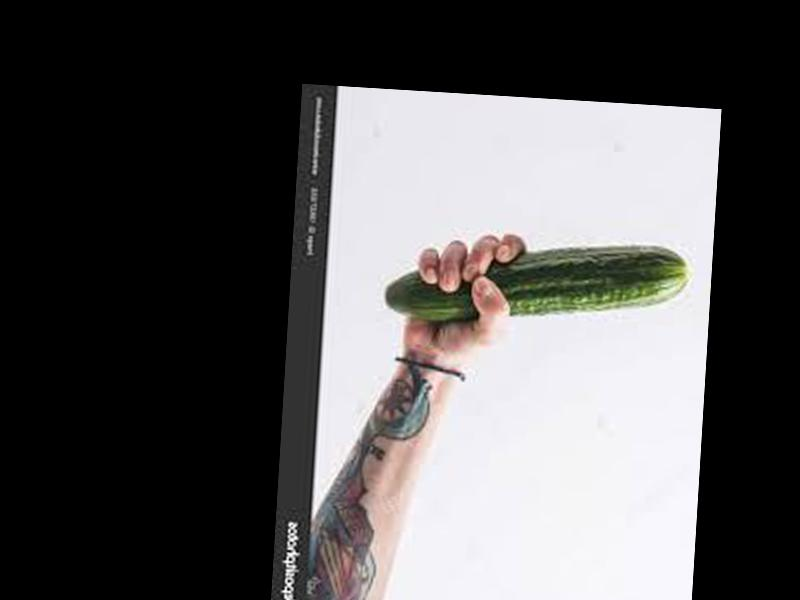Cucumber: (386, 229, 693, 335)
